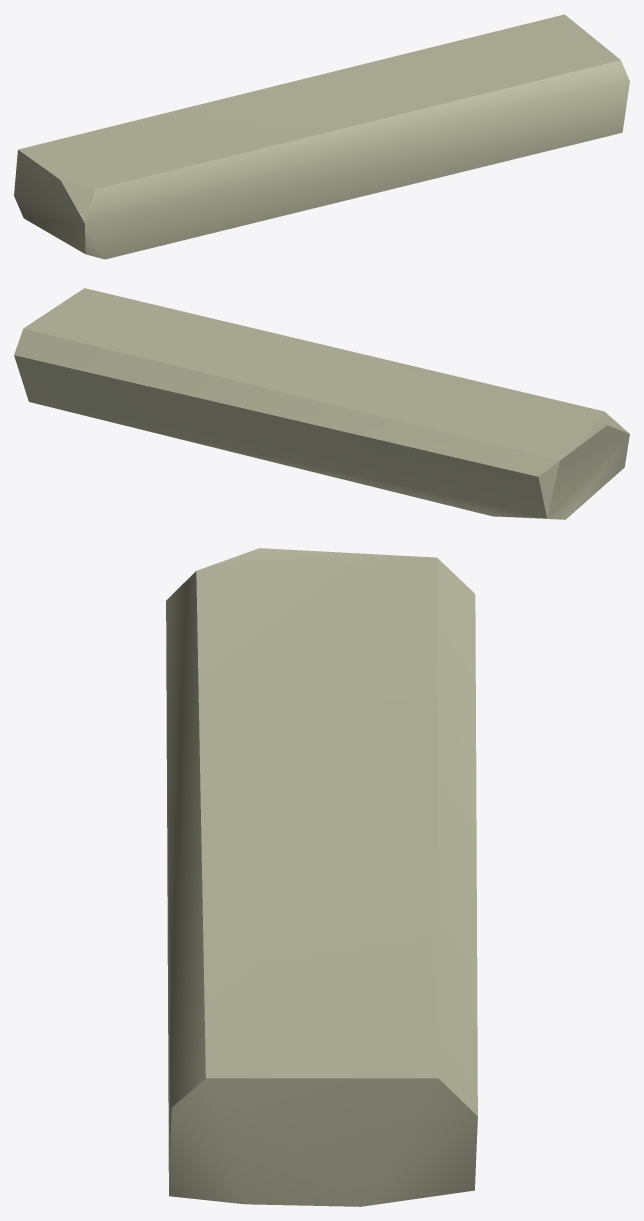
Rendered from SM_rocktile003.fbx.
3 renders of one model, top to bottom at view 1: azimuth 30°, elevation 25°; view 2: azimuth 150°, elevation 25°; view 3: azimuth 270°, elevation 25°, orthographic. The views are drawn at different scales.
Parts seen in each view (by area): view 1: SM_rocktile003; view 2: SM_rocktile003; view 3: SM_rocktile003.
Part boxes in pixels (box(x1,y1,x2,y2)): SM_rocktile003: box(14, 14, 629, 259); SM_rocktile003: box(14, 288, 629, 519); SM_rocktile003: box(166, 548, 477, 1206).
Bounding box in the file's own units: 99.8 × 11.81 × 24.97.
